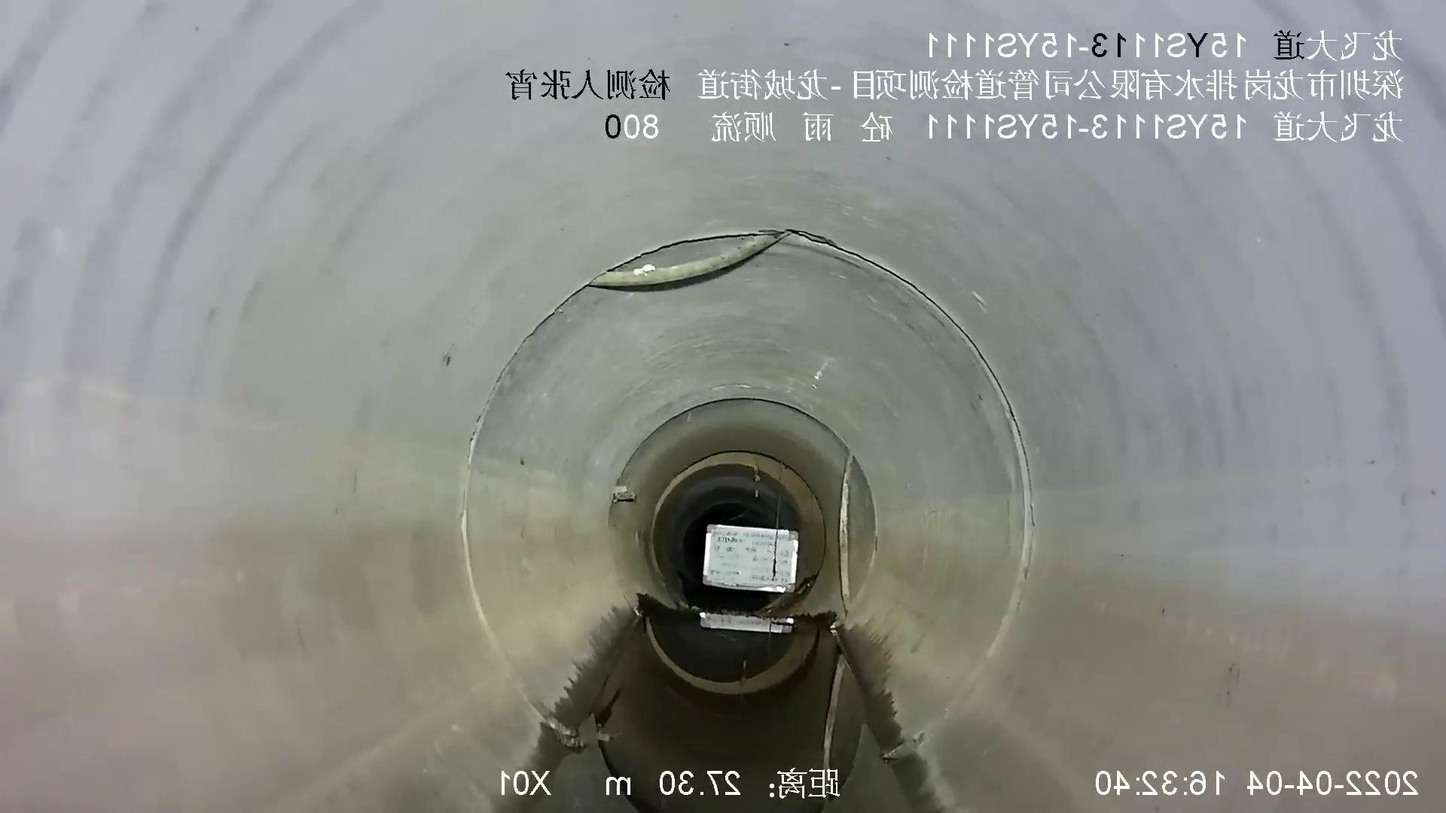YWCR: (587, 231, 790, 290), (838, 452, 855, 620)
